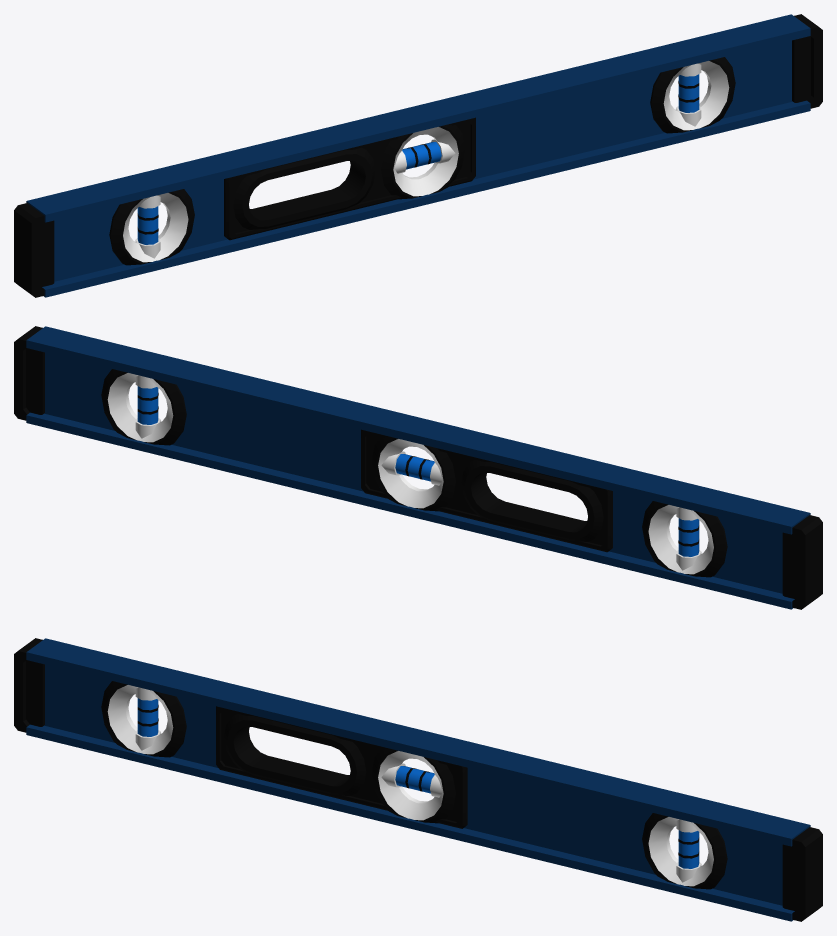
Rendered from MSH_MagneticLevel.fbx.
3 views of the same model, one above another, from view 1: azimuth 30°, elevation 25°; view 2: azimuth 150°, elevation 25°; view 3: azimuth 330°, elevation 25° (orthographic).
Parts seen in each view (by area): view 1: level_low; view 2: level_low; view 3: level_low.
Boxes of the visible parts, x1,y1,x2,y2 form: level_low: (14,14,822,297); level_low: (14,326,822,609); level_low: (14,638,822,921).
Bounding box in the file's own units: 0.6 × 0.06 × 0.025.
